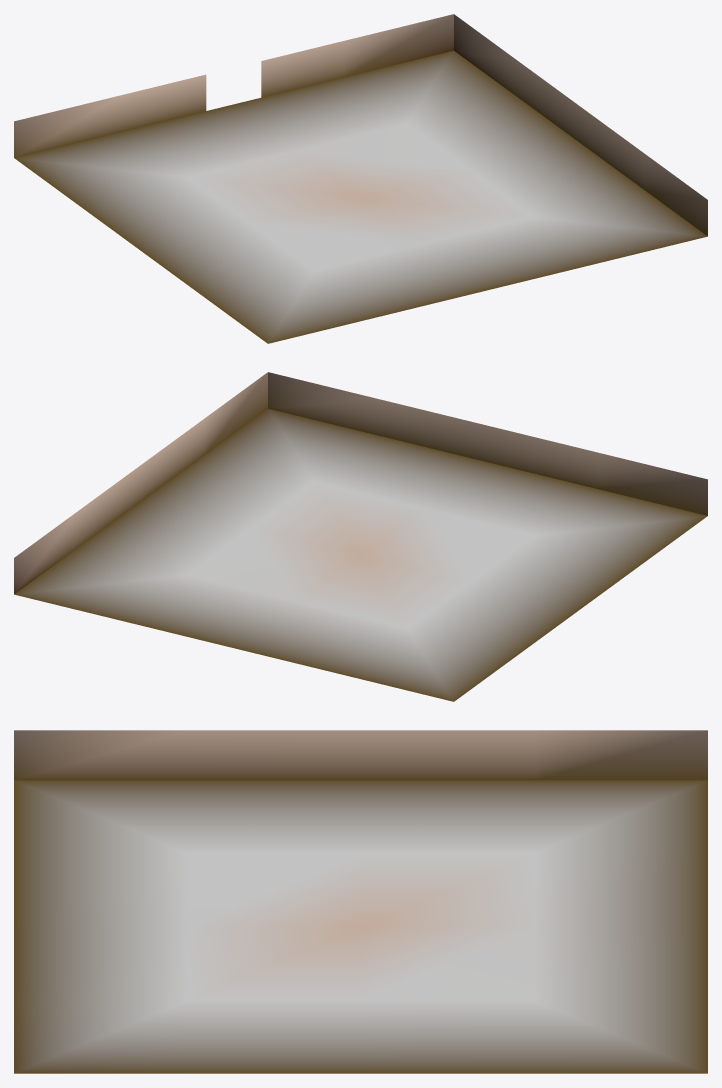
Rendered from map.glb.
The picture shows the model from 3 angles, top to bottom: view 1: azimuth 30°, elevation 25°; view 2: azimuth 150°, elevation 25°; view 3: azimuth 270°, elevation 25°; orthographic projection. The views are drawn at different scales.
Parts seen in each view (by area): view 1: Plane; view 2: Plane; view 3: Plane.
Part boxes in pixels (x1=…): Plane: x1=14, y1=14, x2=707, y2=343; Plane: x1=14, y1=372, x2=707, y2=701; Plane: x1=14, y1=730, x2=707, y2=1073.
Size of the model in its own units: 16 by 1.27 by 16.
